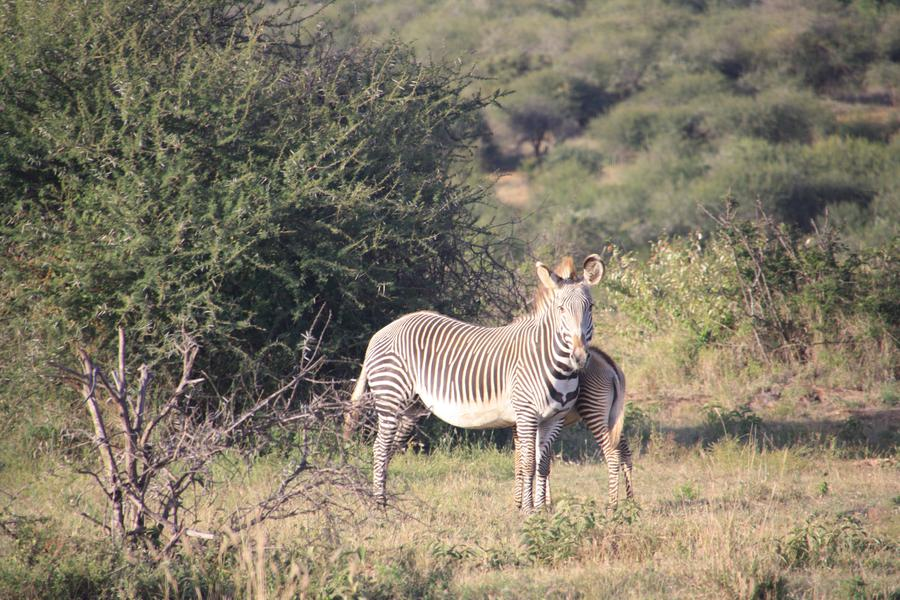zebra_grevys: (377, 305, 545, 416)
